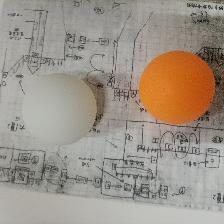WhiteBall: (21, 72, 97, 145)
YellowBall: (138, 49, 215, 125)
